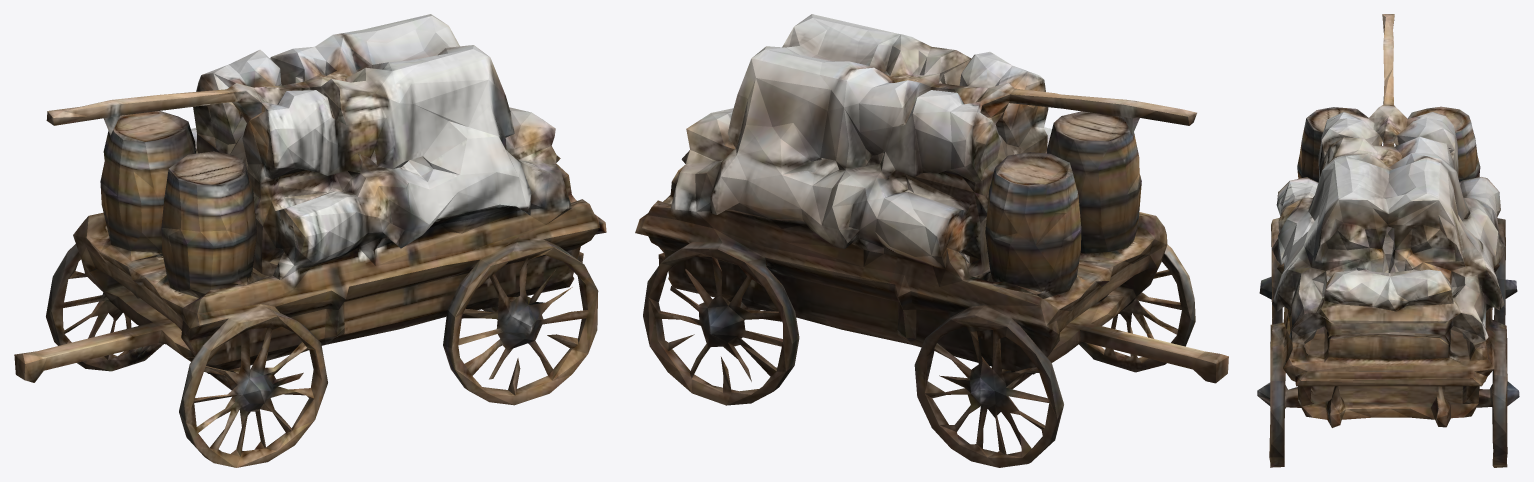
Rendered from cart_barrels_lod0.glb.
3 views of the same model, side by side, from view 1: azimuth 30°, elevation 25°; view 2: azimuth 150°, elevation 25°; view 3: azimuth 270°, elevation 25° (orthographic). The views are drawn at different scales.
Visible parts, largest first — view 1: cart_barrels_lod0; view 2: cart_barrels_lod0; view 3: cart_barrels_lod0.
Part boxes in pixels (<box>): cart_barrels_lod0: <box>14,14,606,467</box>; cart_barrels_lod0: <box>635,14,1228,467</box>; cart_barrels_lod0: <box>1257,14,1519,467</box>.
Bounding box in the file's own units: 3.5 × 2.11 × 1.77.
1 material, 1 textured.
